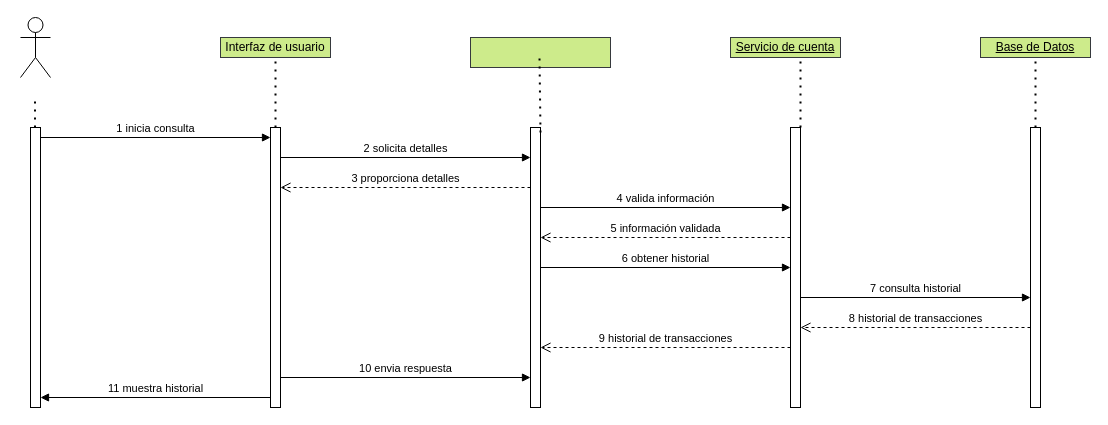
Some shapes in this 1108 by 425 pixel diagram are drawn without their labels. The centre of each missing label's shape, as x and y in pixels:
"Cliente" belongs at (x=35, y=47).
"Gestión de historial de transacciones" belongs at (x=540, y=52).
